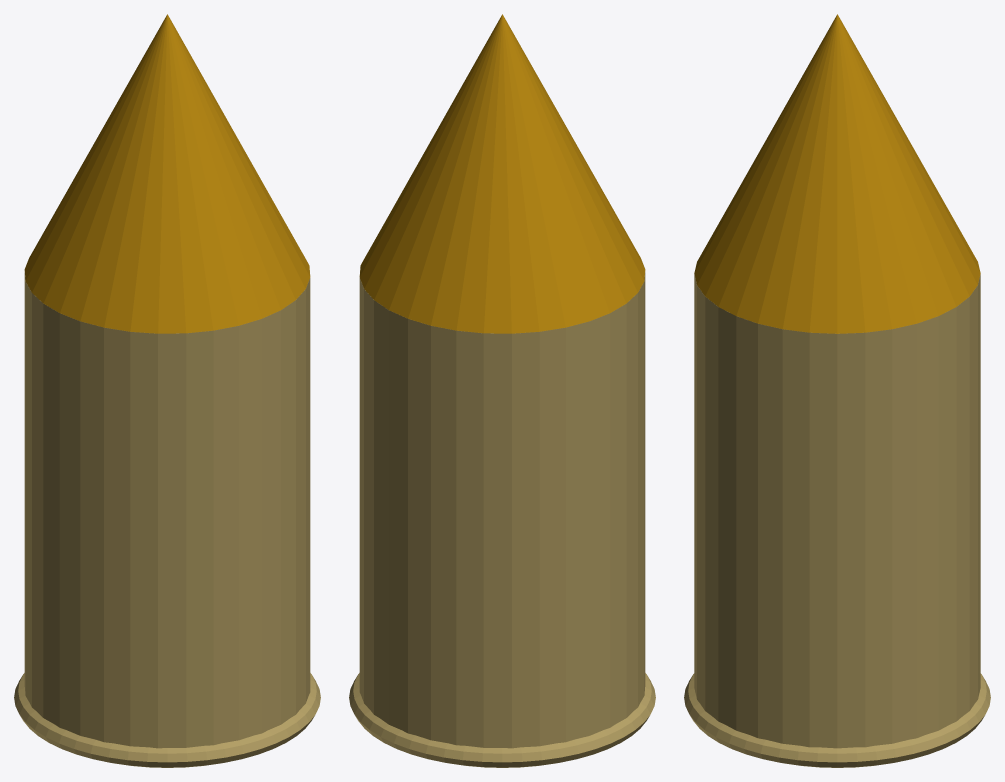
The model's file is Bullet.glb.
3 renders of one model, left to right at view 1: azimuth 30°, elevation 25°; view 2: azimuth 150°, elevation 25°; view 3: azimuth 270°, elevation 25°, orthographic.
Visible parts, largest first — view 1: Cylinder, Cone, Torus; view 2: Cylinder, Cone, Torus; view 3: Cylinder, Cone, Torus.
Part boxes in pixels (x1=…): Cylinder: x1=24, y1=254, x2=310, y2=748; Cone: x1=24, y1=14, x2=310, y2=333; Torus: x1=14, y1=673, x2=320, y2=767; Cylinder: x1=359, y1=254, x2=645, y2=748; Cone: x1=359, y1=14, x2=645, y2=333; Torus: x1=349, y1=673, x2=655, y2=767; Cylinder: x1=694, y1=262, x2=980, y2=748; Cone: x1=694, y1=14, x2=980, y2=333; Torus: x1=684, y1=673, x2=990, y2=767.
Size of the model in its own units: 1.61 by 4.03 by 1.61.
